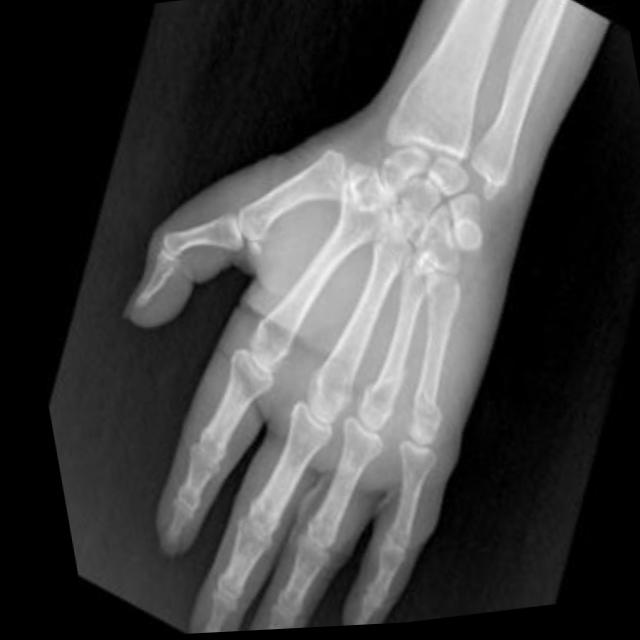fracture: (354, 372, 398, 402), (404, 390, 432, 423)
